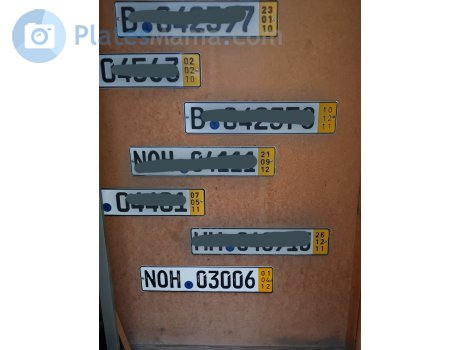License Plates: (146, 267, 256, 287)
